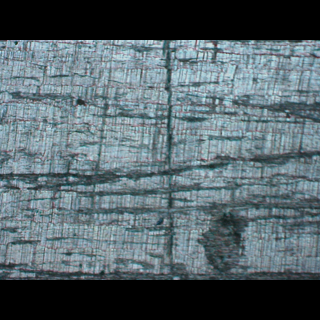d: (191, 208, 250, 279)
